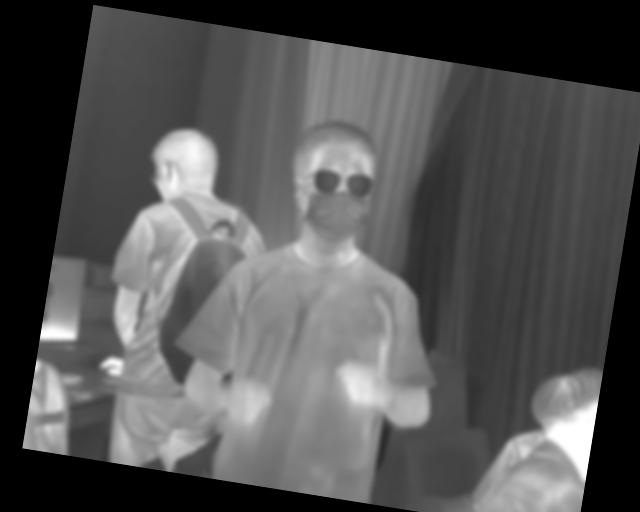face: (280, 114, 387, 248)
